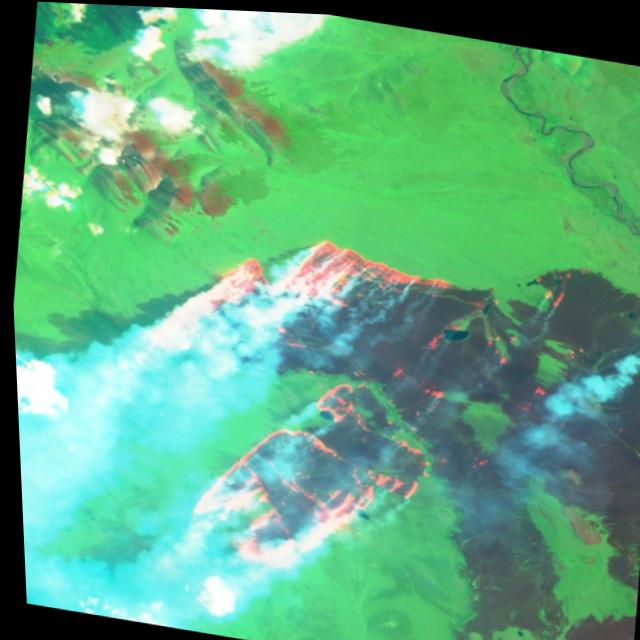fire: (137, 198, 480, 603)
